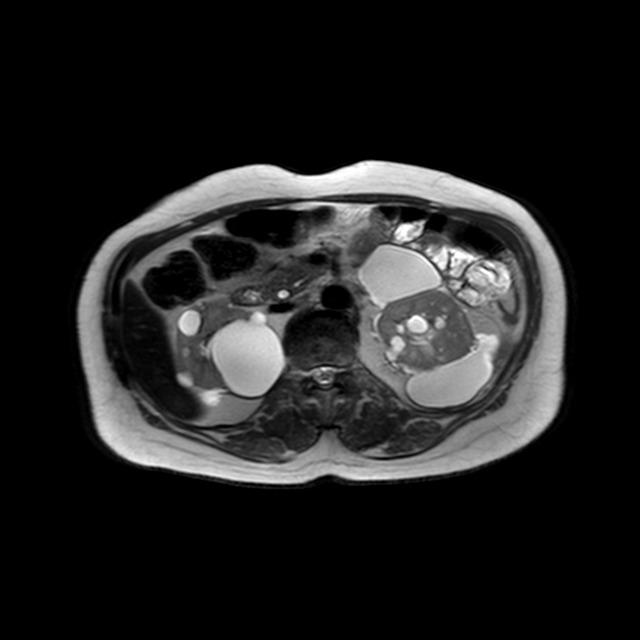sag: (175, 298, 290, 410)
sol: (360, 243, 500, 407)
